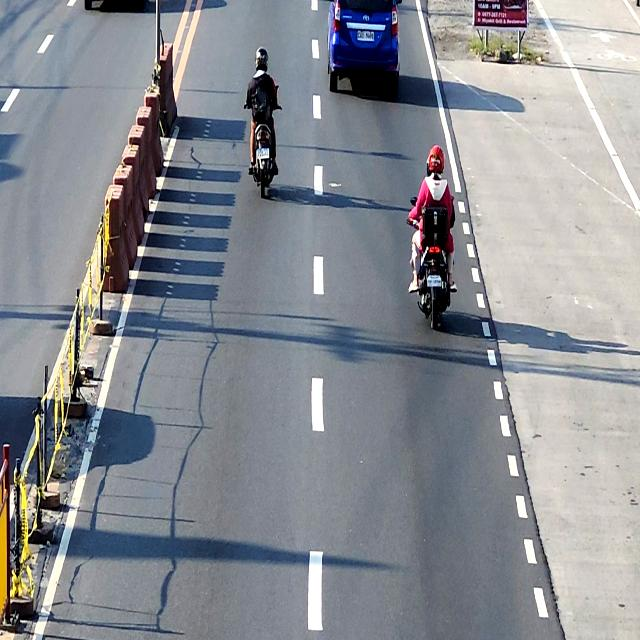Car: (326, 0, 401, 92)
License-Plate: (426, 275, 442, 286), (358, 30, 374, 41), (257, 148, 269, 159)
Motorcycle: (410, 194, 455, 328), (247, 84, 280, 198)
